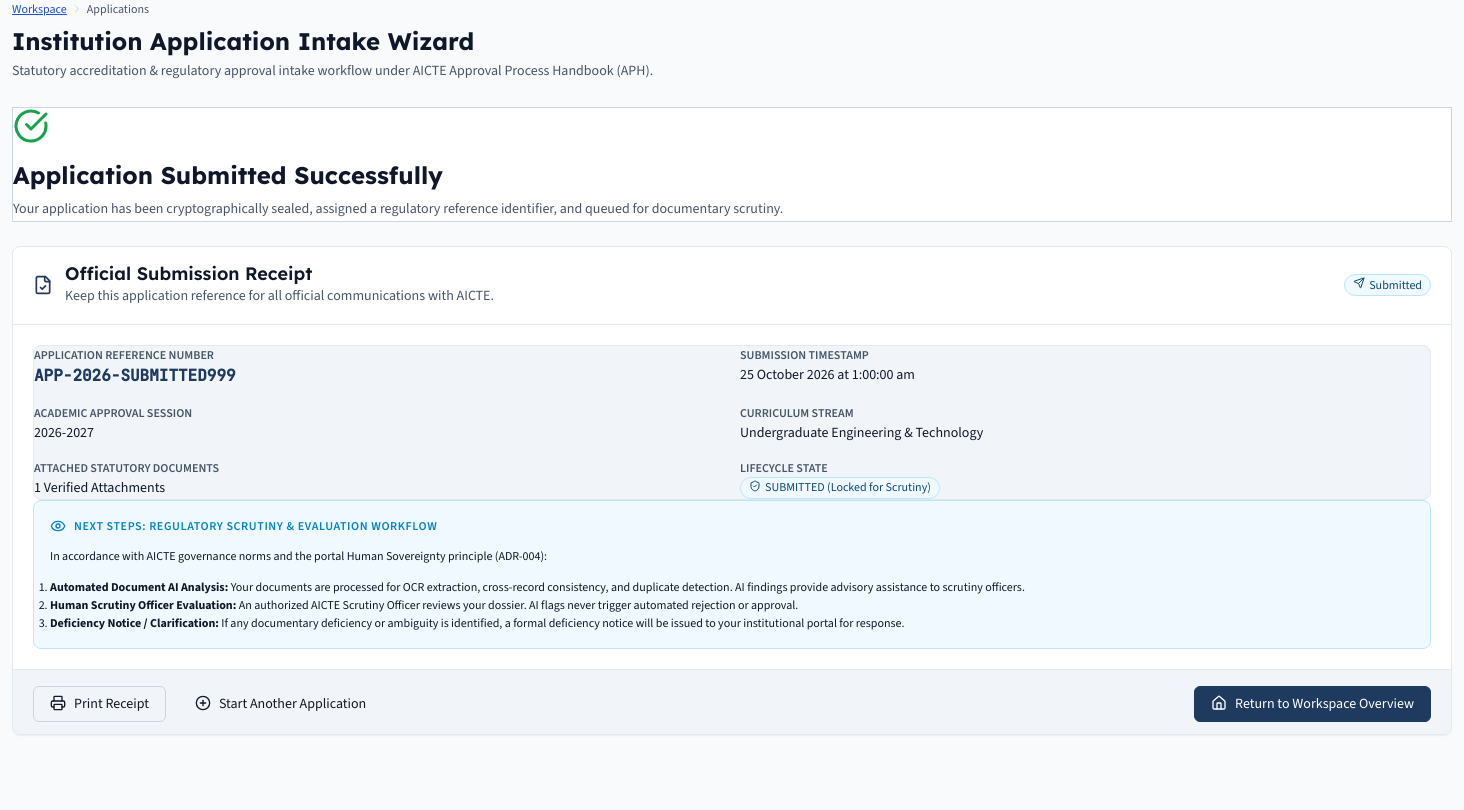
Scenario: Application Wizard & Intake (FE-03) › loads existing submitted application into confirmation view and allows starting fresh
Expected: the text "APP-2026-SUBMITTED999" is shown, [34,365,236,386]
Note: Clicking "Start Another Application" should reset to Step 1
Click the button "Start Another Application": (281, 704) [178,686,383,722]
(page scrolled)
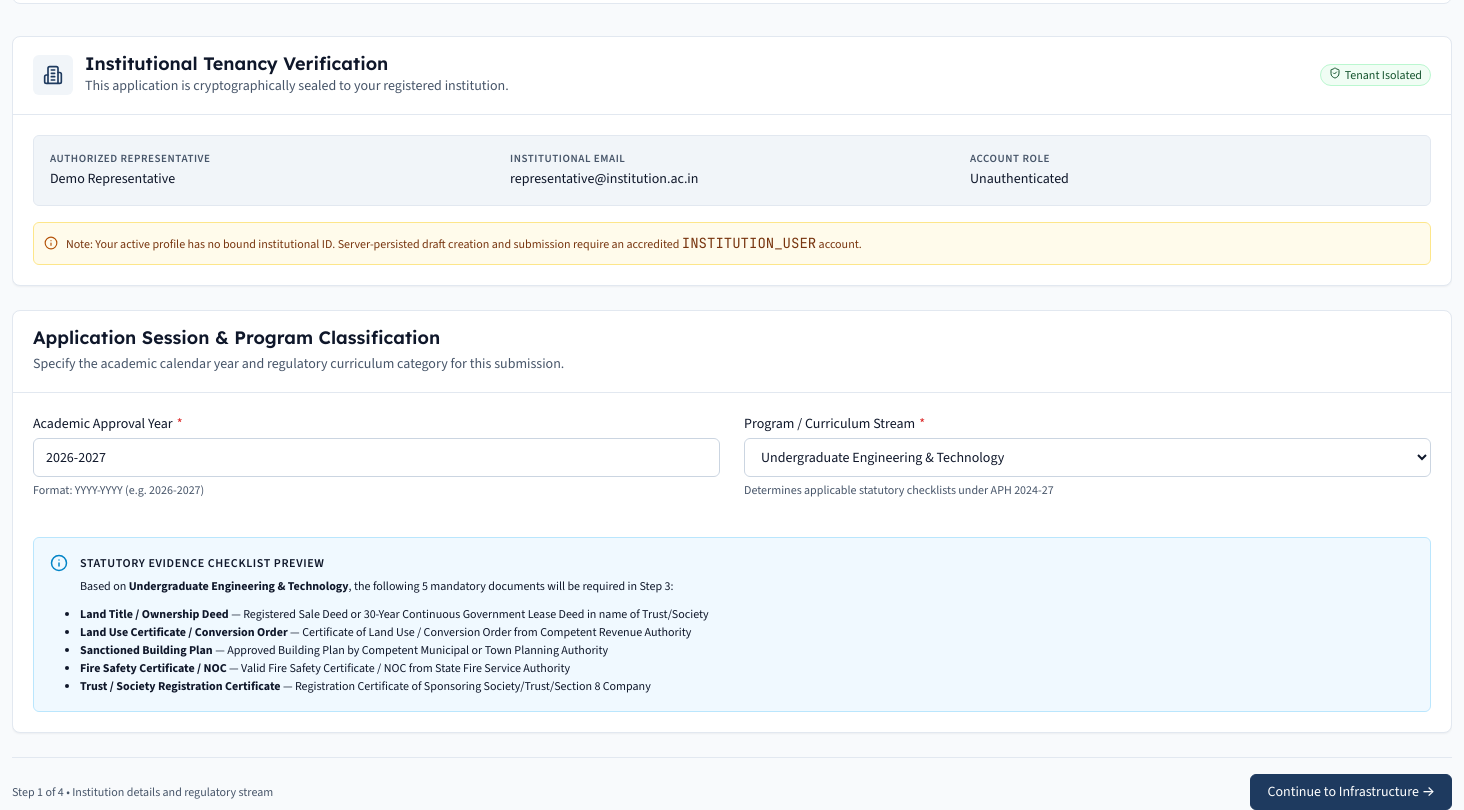
Expected: the button "Continue to Infrastructure →" is shown, [1250,774,1452,809]
